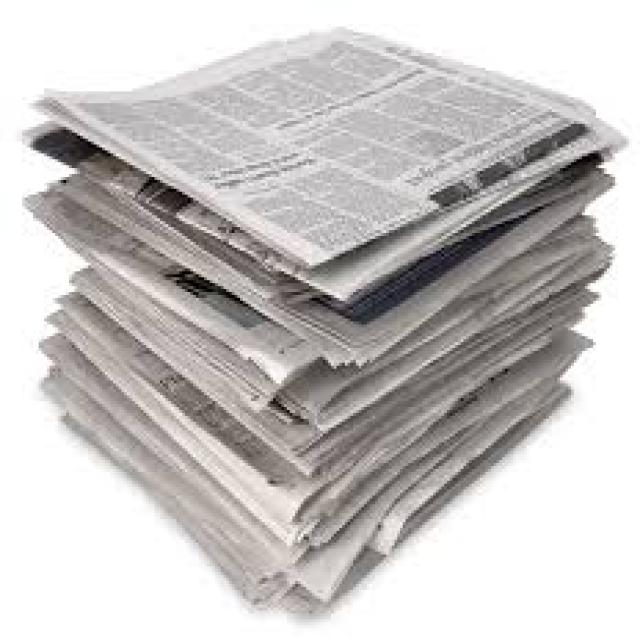paper: (20, 24, 624, 596), (39, 366, 571, 613), (22, 130, 615, 345), (41, 269, 593, 431)
